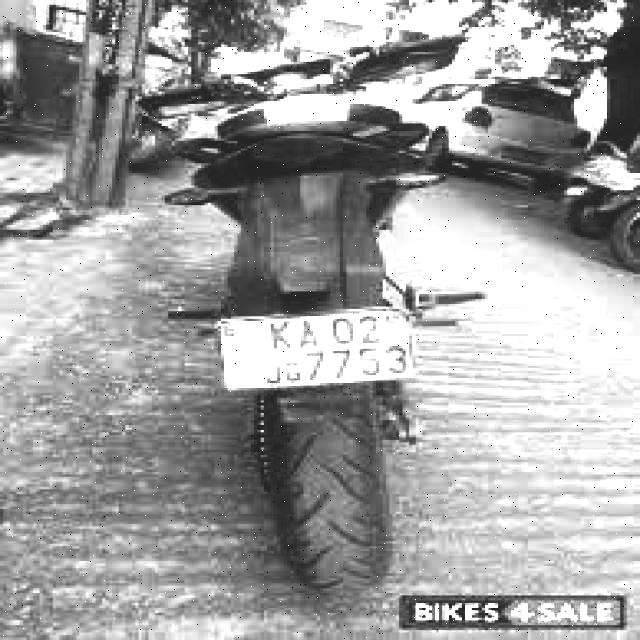Bike: (118, 34, 478, 630)
